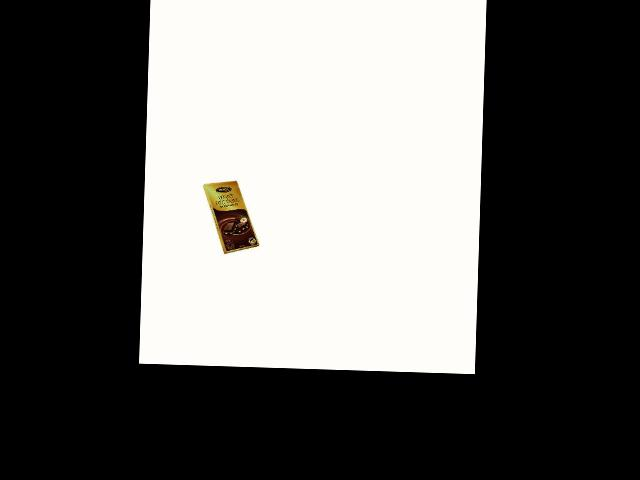chocolate: (198, 179, 261, 261)
